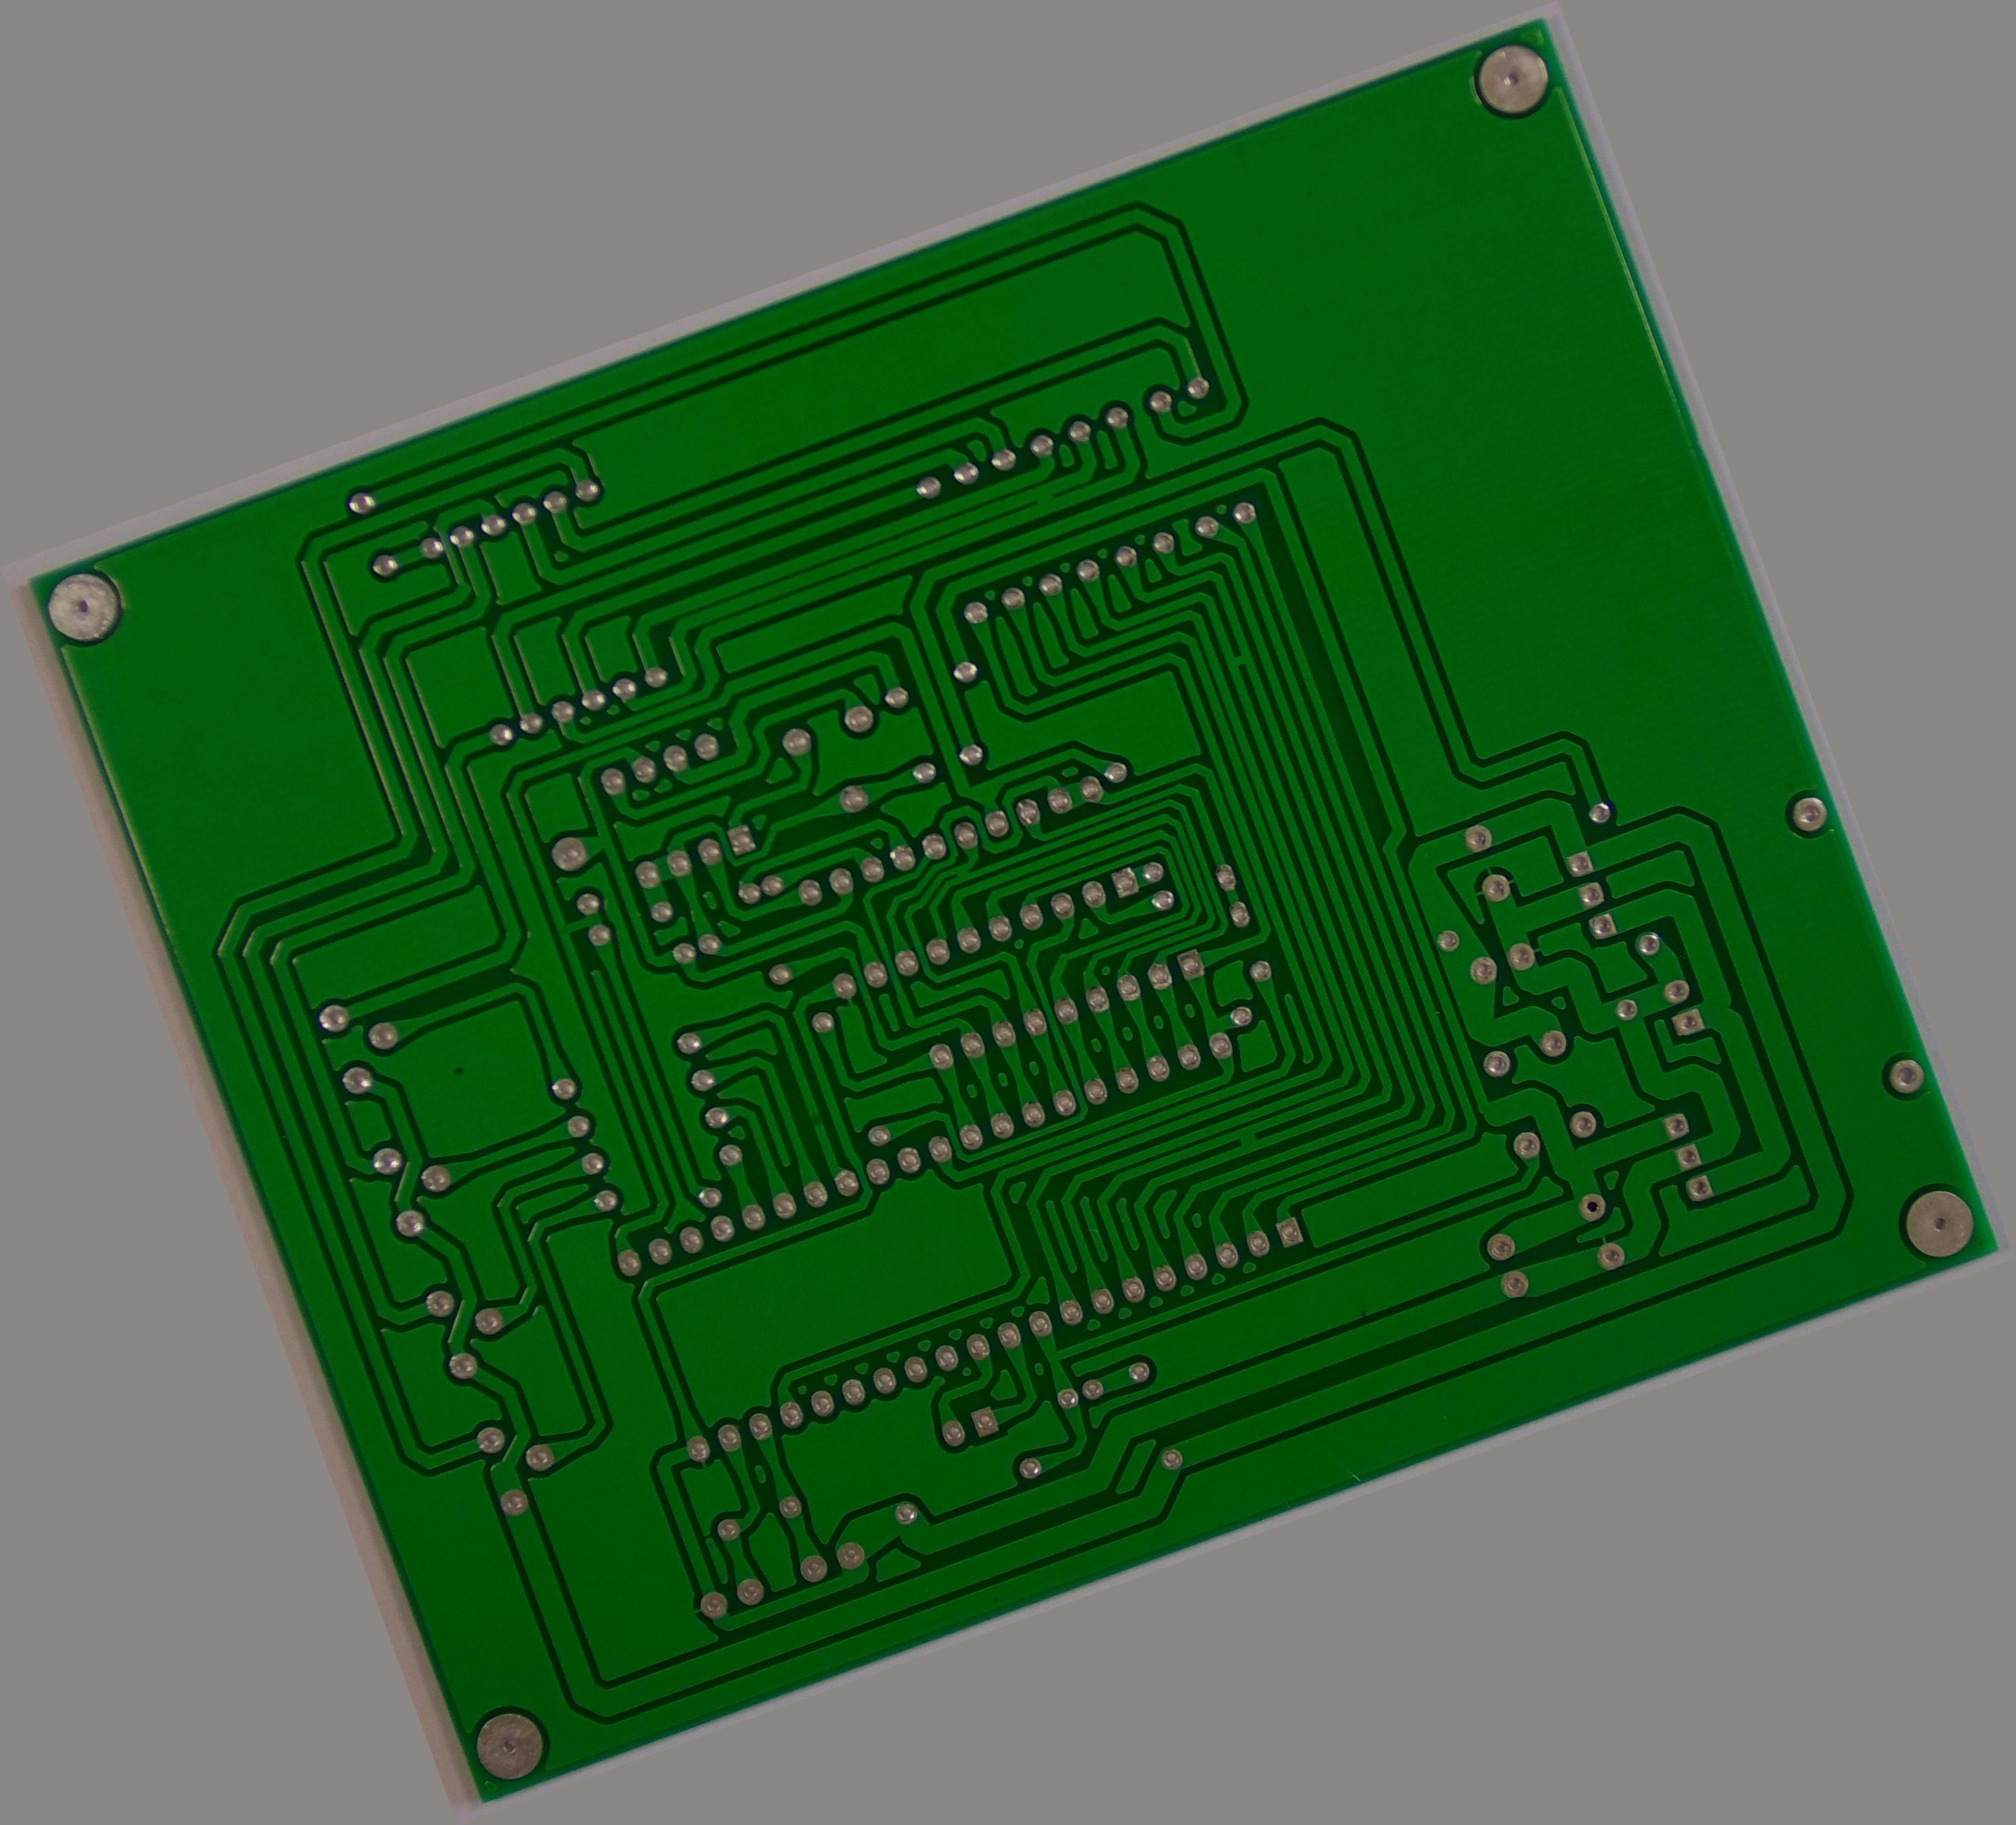short: (550, 898, 609, 952), (1019, 478, 1068, 523), (1226, 1115, 1271, 1158), (1220, 639, 1257, 676), (945, 859, 978, 887)
